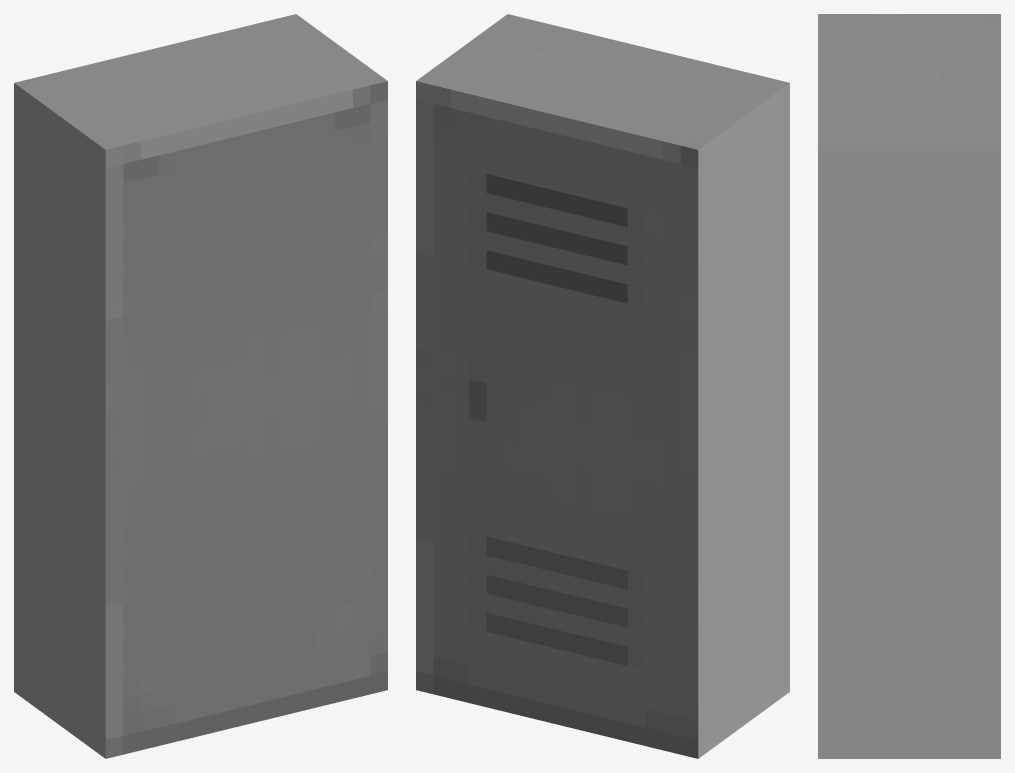
Rendered from locker.obj.
The picture shows the model from 3 angles, left to right: view 1: azimuth 30°, elevation 25°; view 2: azimuth 150°, elevation 25°; view 3: azimuth 270°, elevation 25°; orthographic projection.
Visible parts, largest first — view 1: cube; view 2: door, cube; view 3: cube.
Part boxes in pixels (x1,y1,x2,y2): cube: [14, 14, 387, 758]; door: [433, 104, 680, 735]; cube: [416, 14, 789, 758]; cube: [818, 14, 1000, 758].
Size of the model in its own units: 1 by 2.06 by 0.5625.
